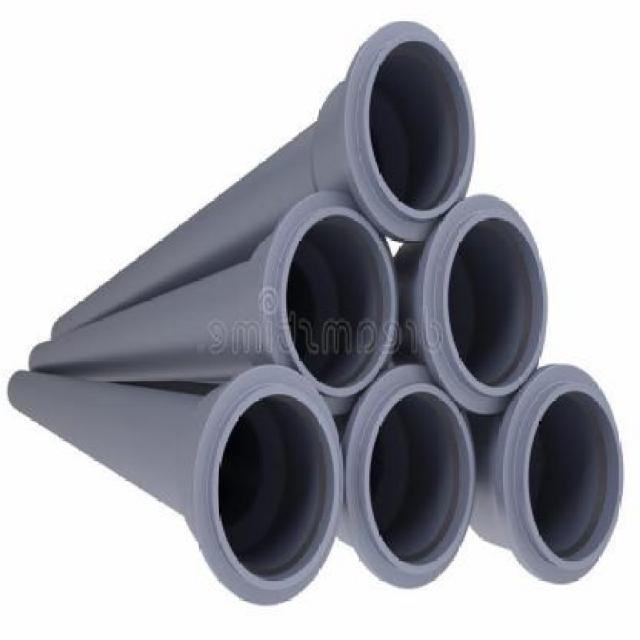pipe: (195, 365, 343, 608), (263, 189, 399, 414), (346, 365, 474, 591), (345, 20, 476, 240), (425, 194, 548, 416), (505, 365, 624, 587)
